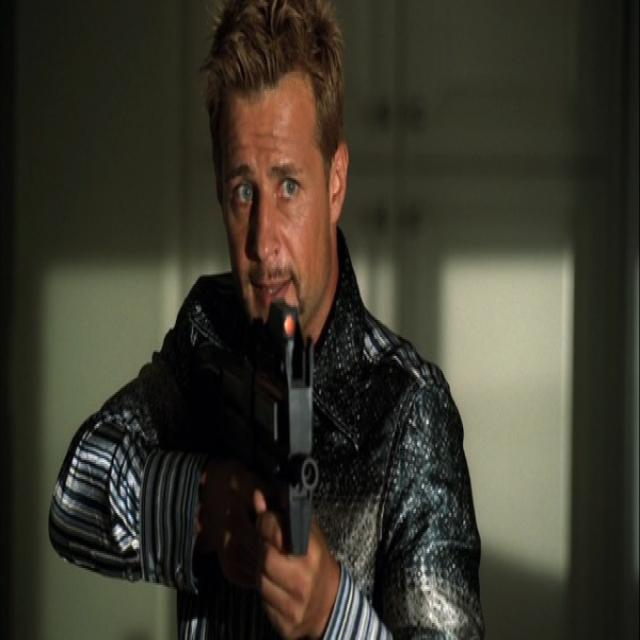rifle: (170, 301, 325, 563)
